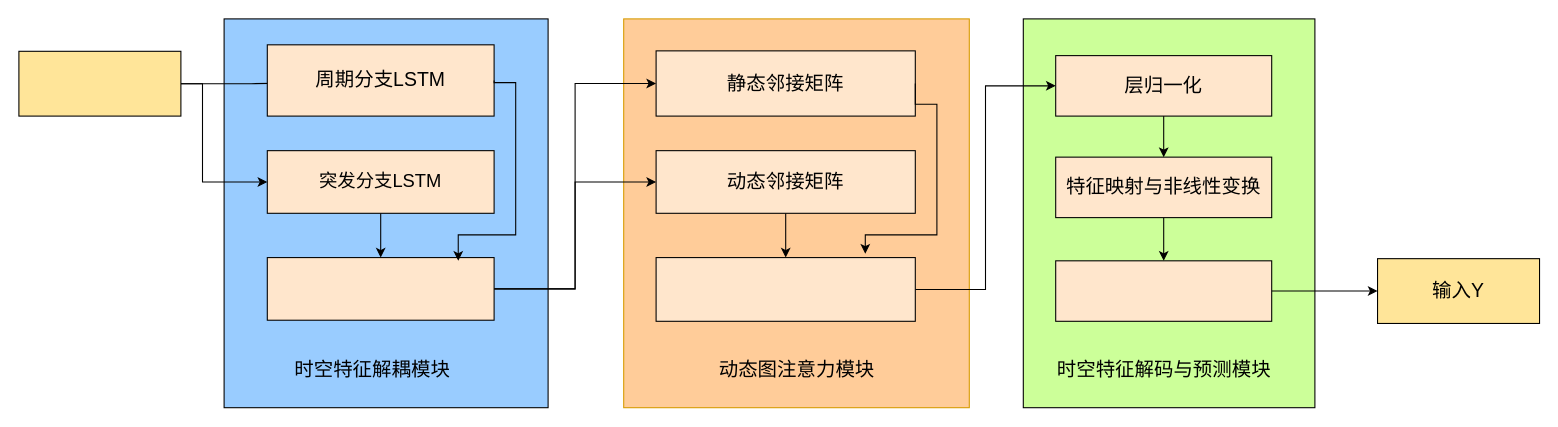
Image size: 1558x427. Some labels were removed from this diagram. Here are the shapes that lost their labels. From the top down, the box of each, then its label:
(18, 50, 181, 116): 输入H
(266, 256, 494, 320): 动态门控融合
(655, 256, 915, 321): 多头GAT
(1055, 260, 1272, 321): 多步交通流量状态预测
